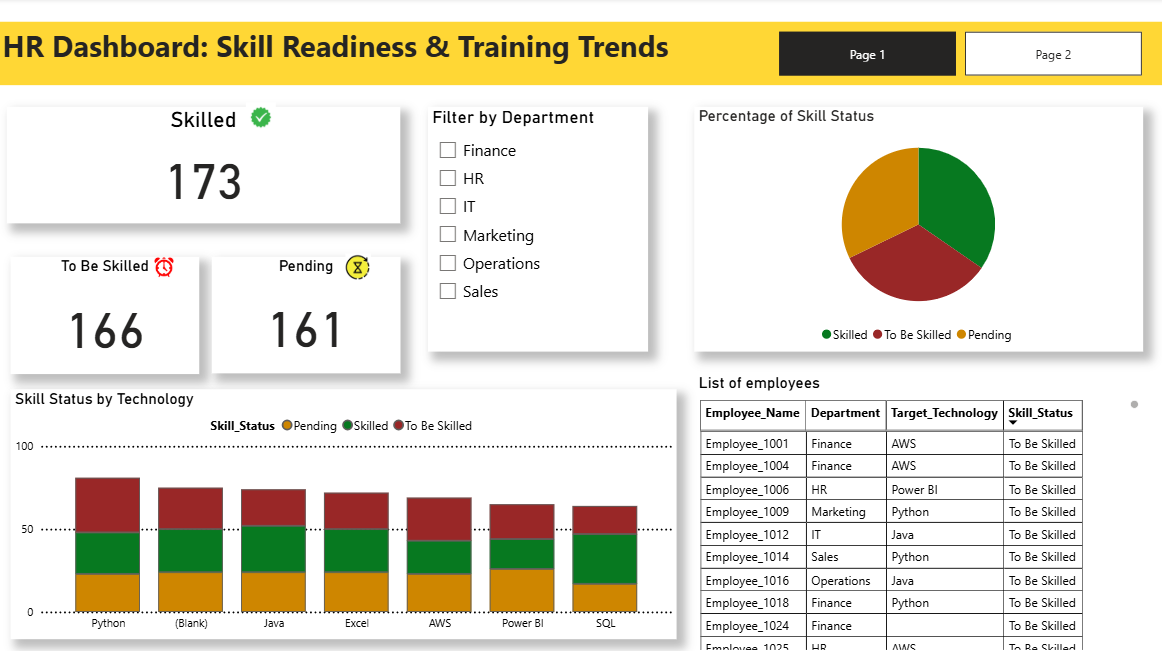

What the dashboard file says about the page in this screenshot:
{"tool":"powerbi","page":{"name":"Page 1","canvas":[1280,720],"ordinal":0},"visuals":[{"type":"textbox","box":[0,26.1,1280.3,70],"z":0},{"type":"card","title":"Skilled","fields":{"Values":["CountNonNull(Sheet1.Total skilled)"]},"box":[9.6,119.4,432.2,127.6],"z":1},{"type":"card","title":"To Be Skilled","fields":{"Values":["Sheet1.To be skilled"]},"box":[13.7,284,207.2,129],"z":2},{"type":"card","title":"Pending","fields":{"Values":["Sheet1.Pending for skill"]},"box":[234.6,284,207.2,127.6],"z":3},{"type":"image","box":[220.9,109.8,135.8,42.5],"z":4},{"type":"image","box":[129,279.9,105.7,31.6],"z":6},{"type":"image","box":[367.8,275.8,54.9,39.8],"z":7},{"type":"tableEx","title":"List of employees","fields":{"Values":["Sheet1.Employee_Name","Sheet1.Department","Sheet1.Target_Technology","Sheet1.Skill_Status"]},"box":[764.3,411.7,492.6,308.7],"z":8},{"type":"columnChart","title":"Skill Status by Technology","fields":{"Category":["Sheet1.Current_Technology"],"Series":["Sheet1.Skill_Status"],"Y":["CountNonNull(Sheet1.Employee_ID)"]},"box":[13.7,429.5,731.4,274.4],"z":9},{"type":"pieChart","title":"Percentage of Skill Status","fields":{"Category":["Sheet1.Skill_Status"],"Y":["CountNonNull(Sheet1.Employee_ID)"]},"box":[764.3,119.4,492.6,269],"z":10},{"type":"slicer","title":"Filter by Department","fields":{"Values":["Sheet1.Department"]},"box":[472,119.4,241.5,269],"z":11},{"type":"pageNavigator","box":[857.6,37,399.3,48],"z":12}]}

Visuals, with their boxes in screenshot pixels (x1, y1, x2, y2), scaled from the page's 1280x720 canvas onto the 1162x651 screenshot:
textbox: bbox(0, 24, 1161, 87)
"Skilled" card: bbox(9, 108, 401, 223)
"To Be Skilled" card: bbox(12, 257, 201, 373)
"Pending" card: bbox(213, 257, 401, 372)
image: bbox(201, 99, 324, 138)
image: bbox(117, 253, 213, 282)
image: bbox(334, 249, 384, 285)
"List of employees" tableEx: bbox(694, 372, 1141, 650)
"Skill Status by Technology" columnChart: bbox(12, 388, 676, 636)
"Percentage of Skill Status" pieChart: bbox(694, 108, 1141, 351)
"Filter by Department" slicer: bbox(428, 108, 648, 351)
pageNavigator: bbox(779, 33, 1141, 77)
